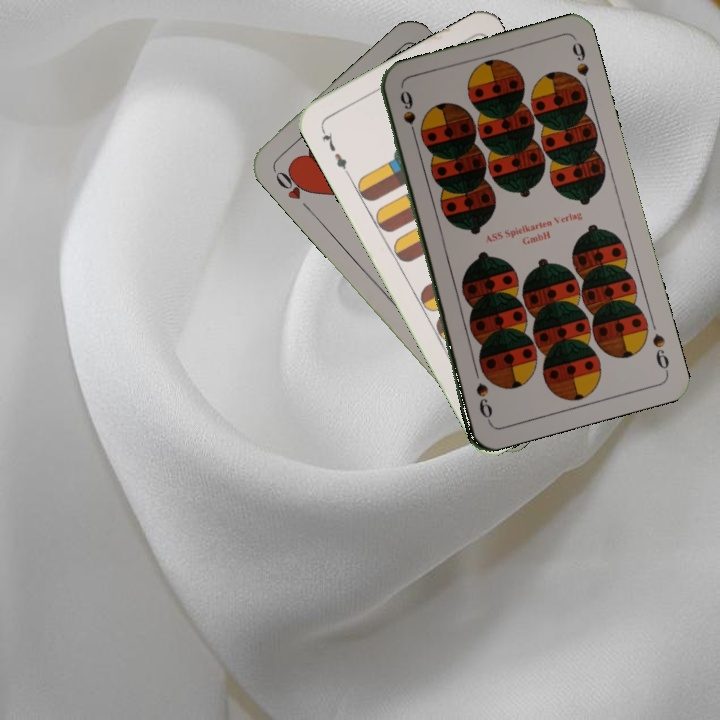E7: (316, 123, 352, 178)
HO: (270, 164, 314, 214)
S9: (396, 87, 420, 144), (648, 329, 672, 376)
